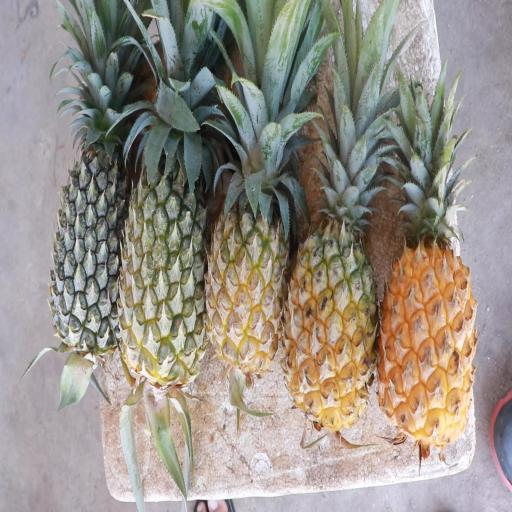------------------------------: (120, 110, 209, 382)
Pineapple - v8 v1: (285, 156, 379, 420), (377, 201, 475, 433), (208, 120, 290, 374)
